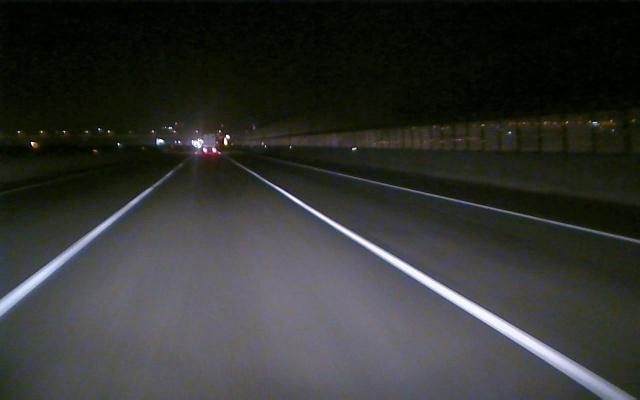lane: (253, 174, 627, 396), (343, 174, 640, 244), (1, 188, 154, 318)
